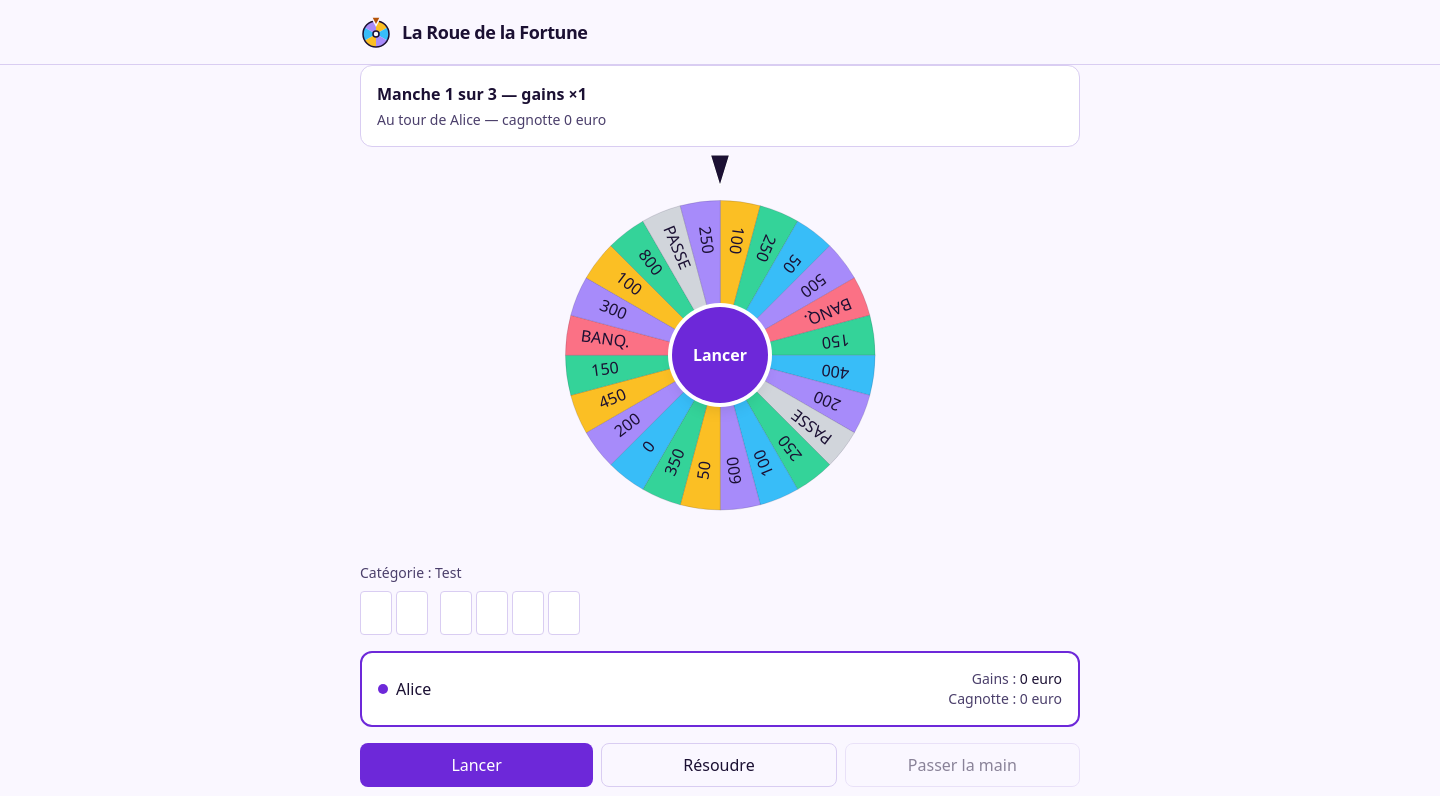
Test: GameRoute › un seul clic sur « Lancer » arme la visée sans lancer la roue
This screenshot has width=1440, height=796.
Click the 2nd button "Lancer" at (477, 765), box [360,743,593,787]
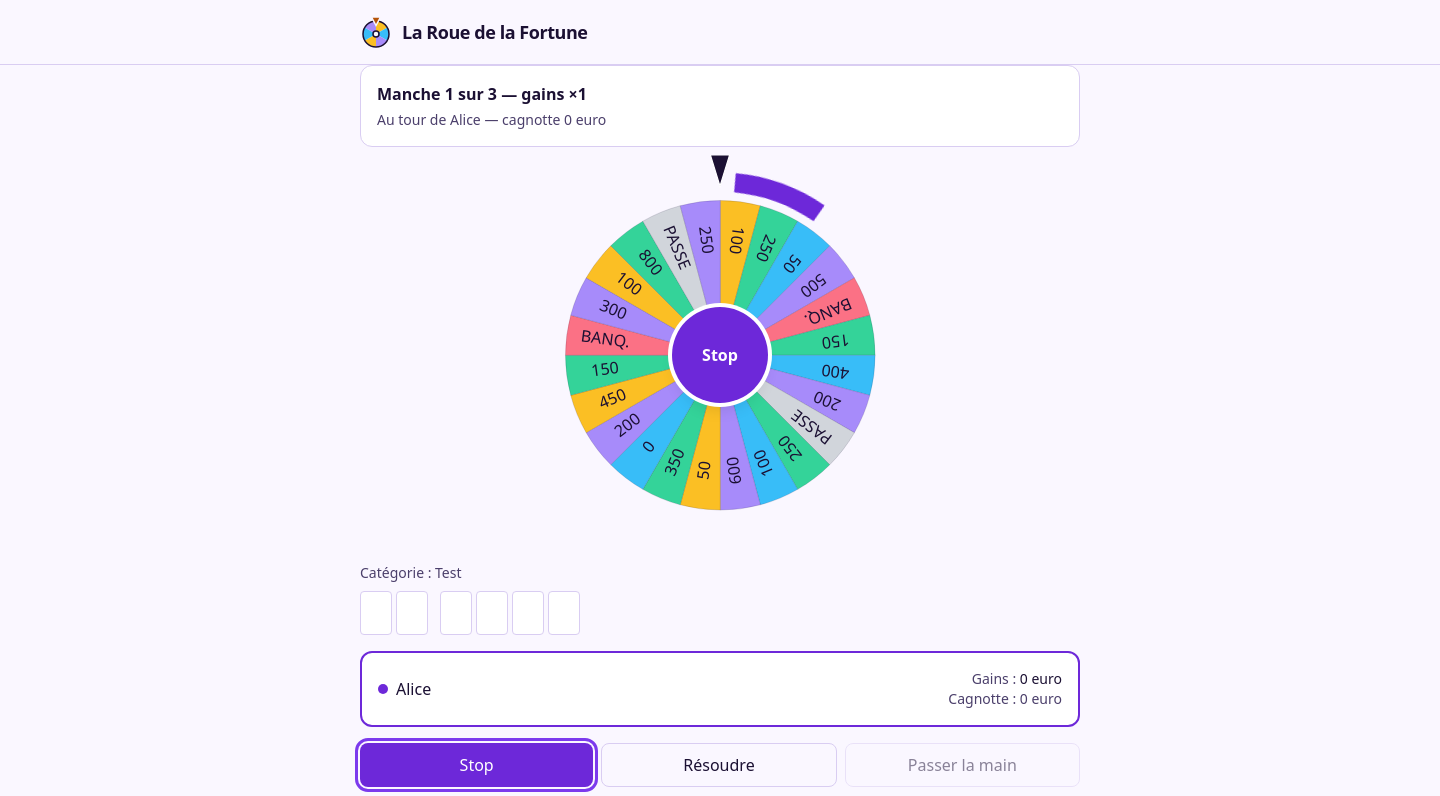
Now the 2nd button "Stop" is shown, box [360,743,593,787]
